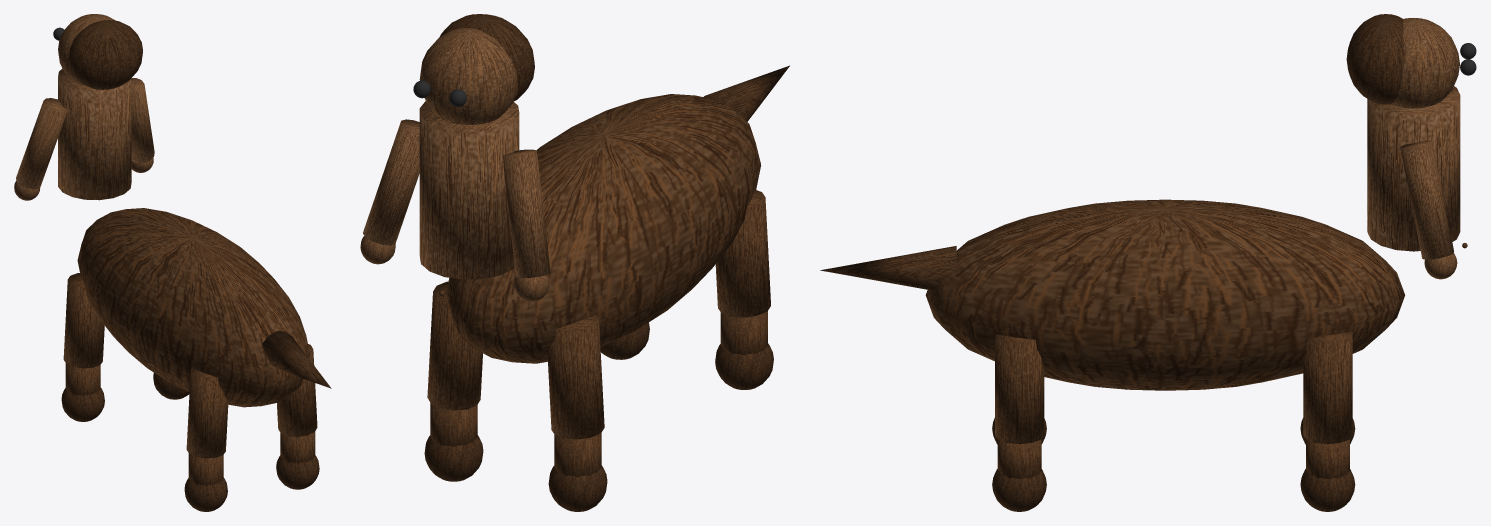
Rendered from centaur.glb.
The picture shows the model from 3 angles, left to right: view 1: azimuth 30°, elevation 25°; view 2: azimuth 150°, elevation 25°; view 3: azimuth 270°, elevation 25°; orthographic projection. The views are drawn at different scales.
Visible parts, largest first — view 1: Body, Torso, HairStrands, LegUpper.001, LegUpper, Arm, LegUpper.003, Tail, Arm.001, Paw.003, Paw, Paw.001 (+5 smaller); view 2: Body, Torso, HumanHead, LegUpper, LegUpper.001, LegUpper.002, Arm, Arm.001, HairStrands, Paw.002, Paw, Paw.001 (+7 smaller); view 3: Body, Torso, LegUpper.002, LegUpper.003, HumanHead, HairStrands, Arm.001, Tail, Paw.002, Paw.003, LegLower.003, LegLower.002.
Part boxes in pixels (x1,y1,x2,y2): Body: (77,208,309,407); Torso: (58,68,131,200); HairStrands: (68,20,142,89); LegUpper.001: (186,368,228,458); LegUpper: (63,273,104,368); Arm: (16,98,67,189); LegUpper.003: (277,344,317,436); Tail: (262,331,331,388); Arm.001: (131,78,154,163); Paw.003: (276,455,319,489); Paw: (61,388,104,421); Paw.001: (184,478,227,511); Body: (446,94,760,363); Torso: (419,101,519,279); HumanHead: (419,28,518,124); LegUpper: (547,315,604,439); LegUpper.001: (715,189,770,317); LegUpper.002: (427,281,482,410); Arm: (503,149,550,278); Arm.001: (363,119,419,245); HairStrands: (439,14,534,101); Paw.002: (424,435,483,481); Paw: (548,465,607,511); Paw.001: (715,343,773,389); Body: (925,199,1405,390); Torso: (1367,86,1460,251); LegUpper.002: (1303,332,1352,444); LegUpper.003: (995,334,1044,444); HumanHead: (1391,18,1459,108); HairStrands: (1346,14,1404,104); Arm.001: (1400,140,1453,259); Tail: (820,246,956,290); Paw.002: (1300,469,1355,511); Paw.003: (992,469,1046,511); LegLower.003: (997,439,1041,479); LegLower.002: (1306,439,1349,479).
Bounding box in the file's own units: 0.3867 × 1 × 1.29.
Materials: 4 (3 with a texture image).
